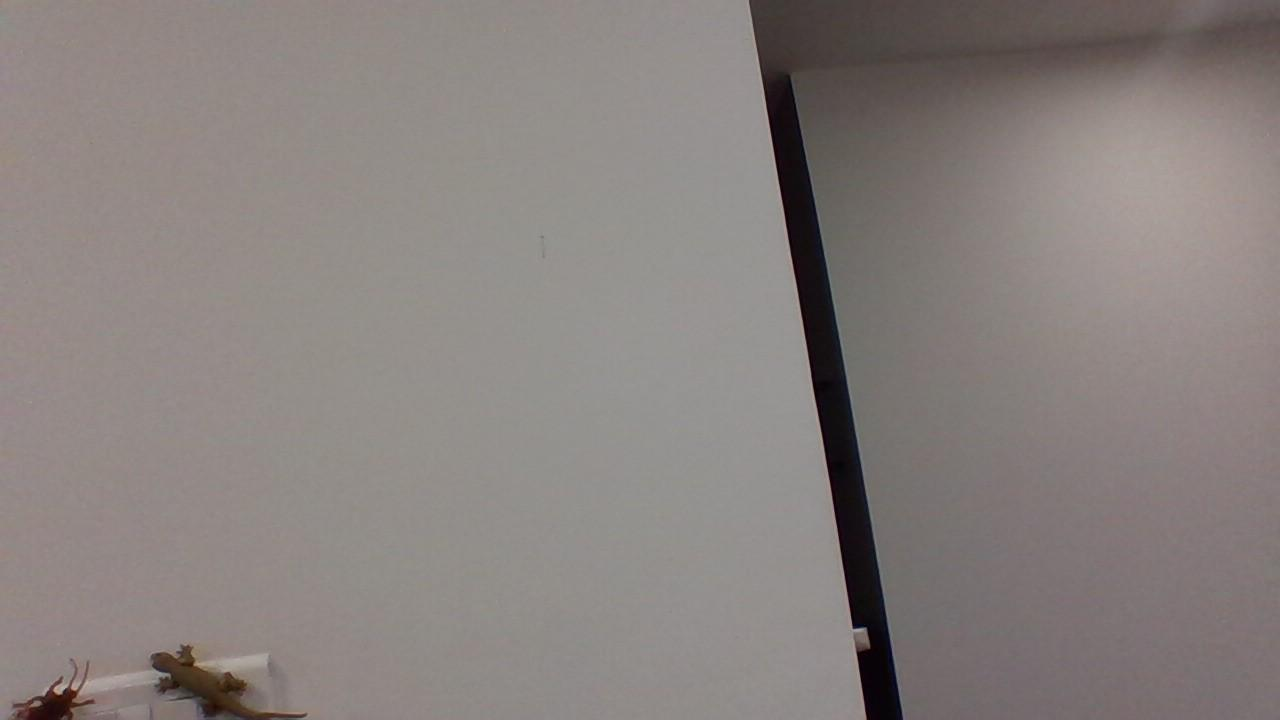cockroach: (2, 662, 106, 720)
lizard: (135, 637, 313, 720)
